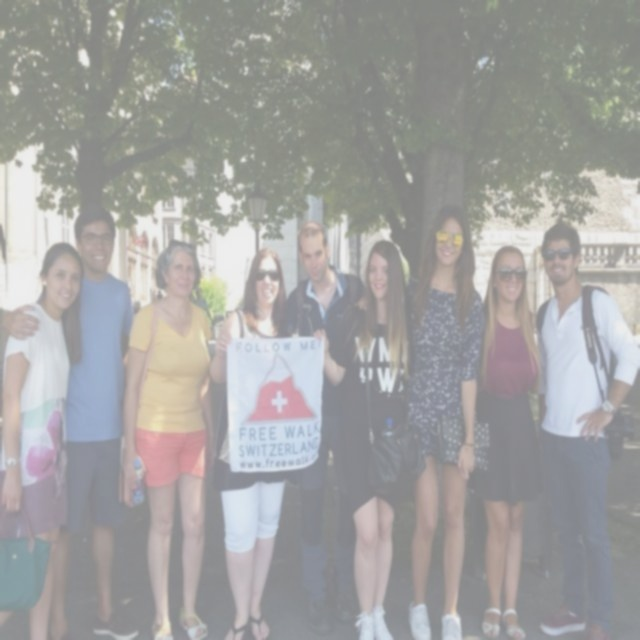pessoa: (0, 202, 142, 640), (354, 198, 489, 639), (536, 220, 640, 640), (310, 235, 410, 640), (277, 216, 370, 639), (207, 243, 306, 640), (120, 236, 214, 640), (0, 237, 86, 639), (462, 240, 546, 639), (192, 286, 215, 324), (148, 284, 166, 304), (132, 298, 144, 314)
